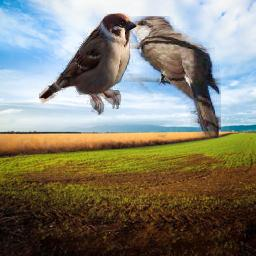Cuckoo: (121, 16, 222, 138)
Sparrow: (40, 11, 139, 115)
